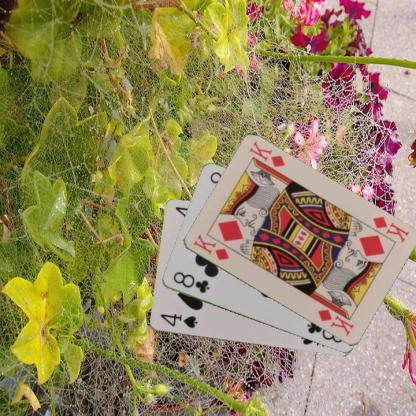4s: (157, 311, 199, 330)
8c: (170, 269, 211, 295)
Kd: (190, 231, 230, 262), (370, 214, 410, 244)
